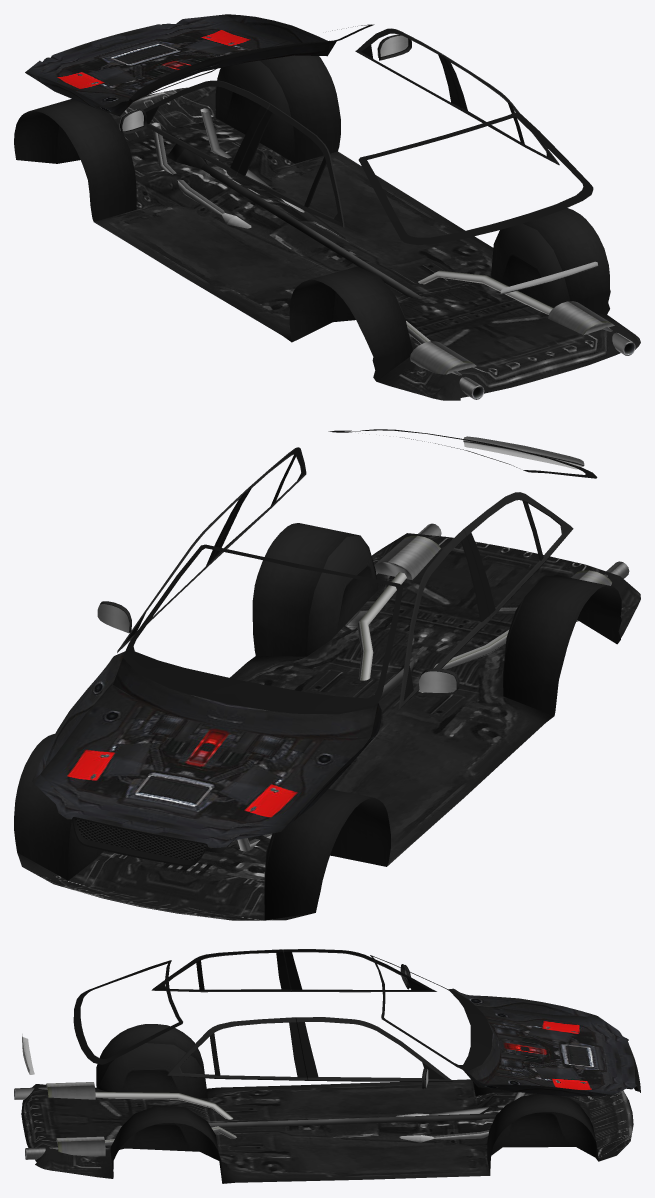
The model's file is tozzo98_bottom_ucb_bottom_lt_0.004_lev3.glb.
3 renders of one model, top to bottom at view 1: azimuth 30°, elevation 25°; view 2: azimuth 150°, elevation 25°; view 3: azimuth 270°, elevation 25°, orthographic. The views are drawn at different scales.
Visible parts, largest first — view 1: tozzo98_bottom_ucb_bottom_lt_0.004_lev3; view 2: tozzo98_bottom_ucb_bottom_lt_0.004_lev3; view 3: tozzo98_bottom_ucb_bottom_lt_0.004_lev3.
Boxes of the visible parts, x1=… form: tozzo98_bottom_ucb_bottom_lt_0.004_lev3: x1=14, y1=14, x2=640, y2=400; tozzo98_bottom_ucb_bottom_lt_0.004_lev3: x1=14, y1=429, x2=640, y2=920; tozzo98_bottom_ucb_bottom_lt_0.004_lev3: x1=14, y1=949, x2=640, y2=1183.
Size of the model in its own units: 1.88 by 1.17 by 4.29.
1 material, 1 textured.
